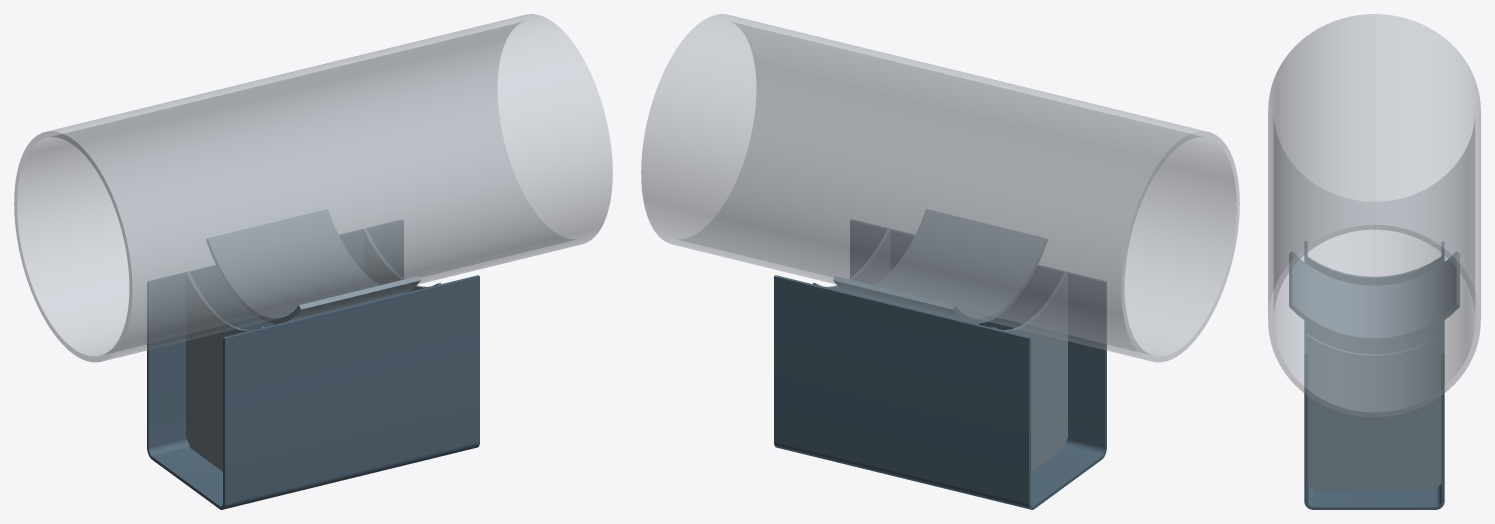
The model's file is TS-624.000-035-opora-dn273-H200-L340.glb.
3 views of the same model, side by side, from view 1: azimuth 30°, elevation 25°; view 2: azimuth 150°, elevation 25°; view 3: azimuth 270°, elevation 25° (orthographic). The views are drawn at different scales.
Visible parts, largest first — view 1: truba, skoba, podushka_0, rebro3_0, rebro3_1; view 2: truba, skoba, podushka_0, rebro3_0, rebro3_1; view 3: truba, rebro3_1, podushka_0, skoba, rebro4_0, rebro3_0.
Part boxes in pixels (x1,y1,x2,y2): truba: (14,14,612,362); skoba: (147,220,479,509); podushka_0: (206,209,420,323); rebro3_0: (186,272,263,471); rebro3_1: (363,228,440,292); truba: (641,14,1239,362); skoba: (774,220,1106,509); podushka_0: (833,209,1047,323); rebro3_0: (990,272,1067,471); rebro3_1: (813,228,890,292); truba: (1268,14,1480,417); rebro3_1: (1307,334,1441,490); podushka_0: (1289,252,1459,342); skoba: (1304,241,1444,509); rebro4_0: (1307,323,1441,354); rebro3_0: (1307,257,1441,285).
Bounding box in the file's own units: 640 × 474 × 273.
